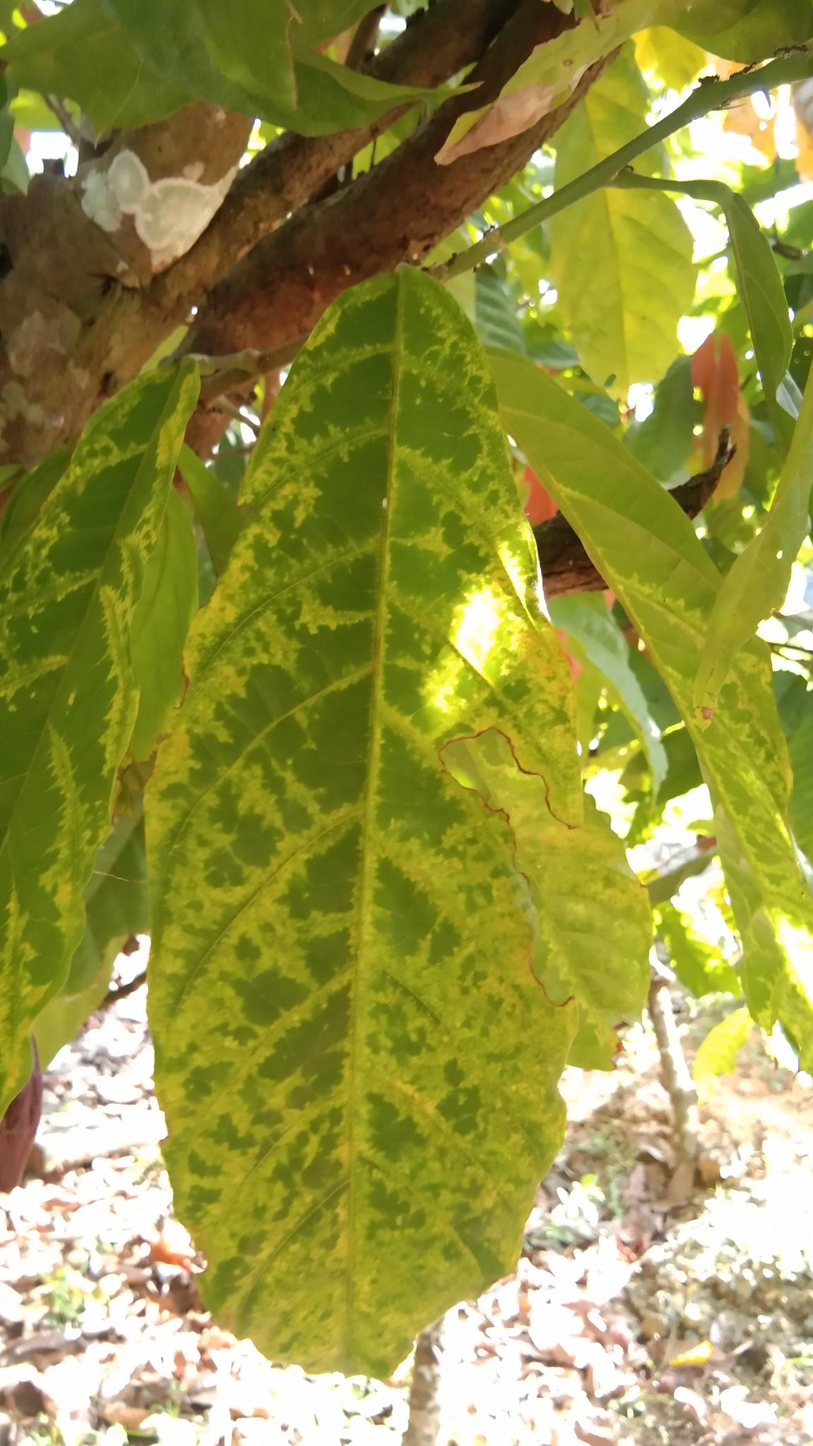Fosforo: (131, 251, 589, 1404)
